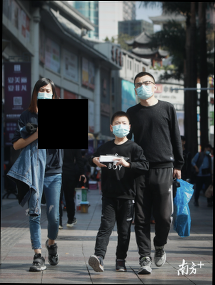with_mask: (134, 80, 156, 101), (112, 120, 131, 139), (36, 88, 53, 106)
